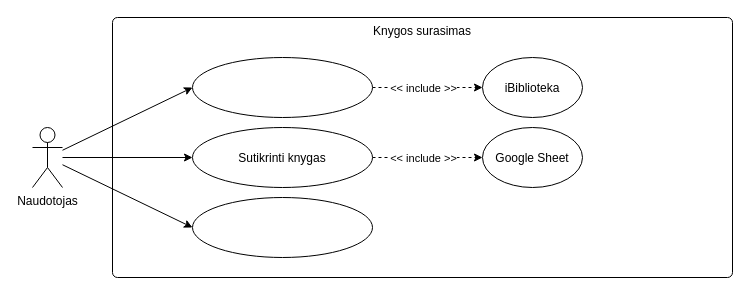
Some shapes in this 750 by 295 pixel diagram are drawn without their labels. The shapes that lost their labels are listed below. From the top down, each one's centre as x and y in pixels, then its label:
At (282,87): "Surašyti knygas".
At (282,227): "Sukurti PDF lapą spausdinimui".
